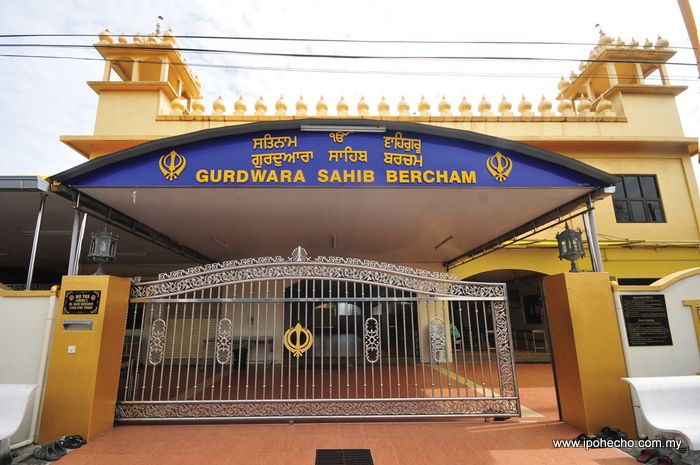Gurdwara: (68, 18, 677, 404)
